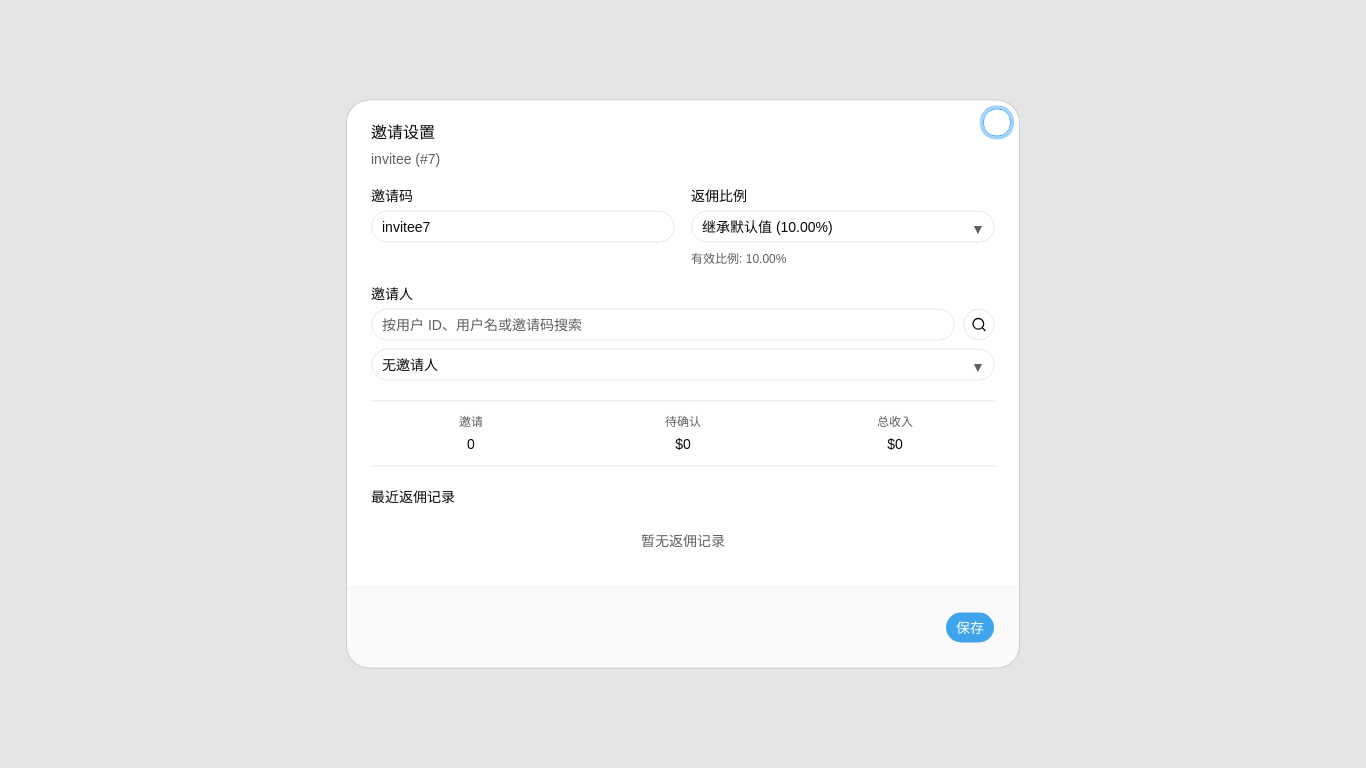
Scenario: AffiliateSettingsDialog server errors › shows the translated server reason when saving is rejected
This screenshot has width=1366, height=768.
Click the button "保存" at (970, 628), box [945, 612, 995, 644]
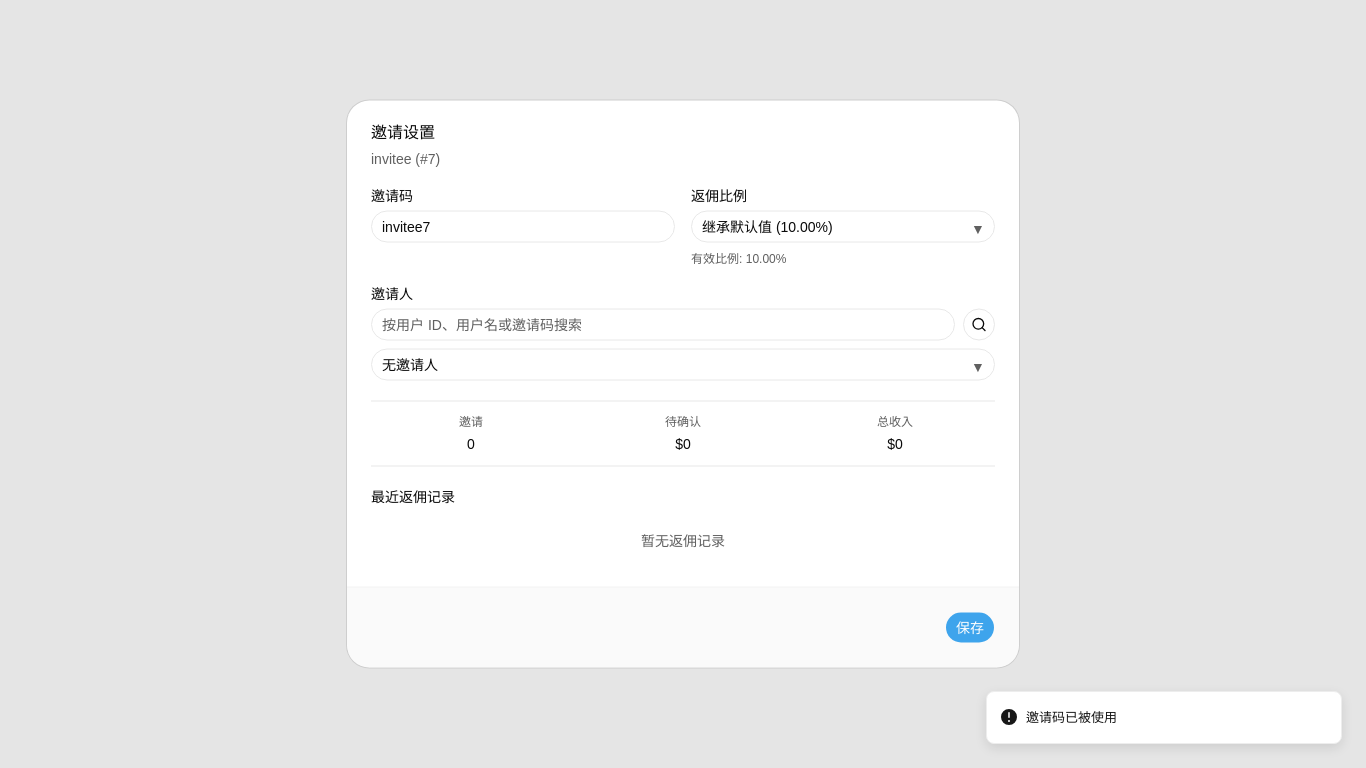
Now the text "邀请码已被使用" is shown, box [1026, 708, 1117, 727]
